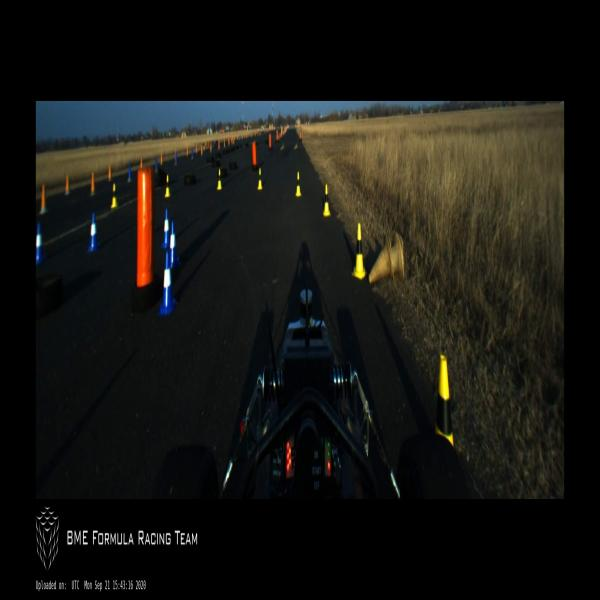blue_cone: (157, 251, 178, 317), (169, 221, 180, 269), (87, 213, 100, 253), (35, 223, 46, 266), (162, 208, 170, 248)
yellow_cone: (435, 355, 454, 456), (351, 224, 367, 280), (322, 184, 331, 217), (110, 184, 118, 208), (295, 172, 302, 198), (164, 175, 170, 199), (257, 168, 263, 190), (216, 168, 222, 190)
